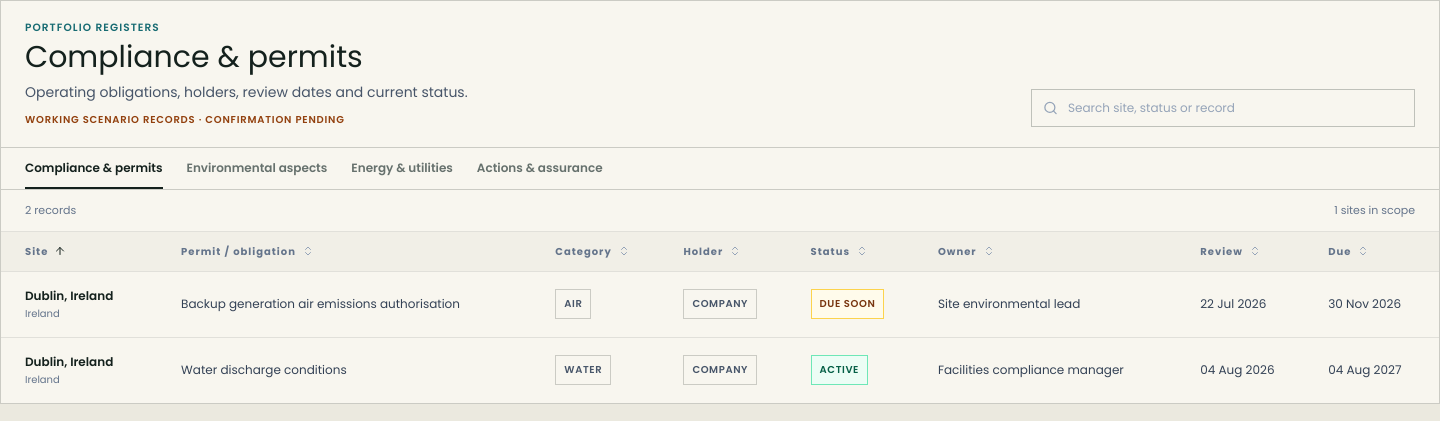
Test: EEMS portfolio components › switches portfolio registers and filters records
Expected: the text "Backup generation air emissions authorisation" is shown, [165,271,539,337]
Click the button "Energy & utilities".
click(402, 169)  # box [351,148,453,189]
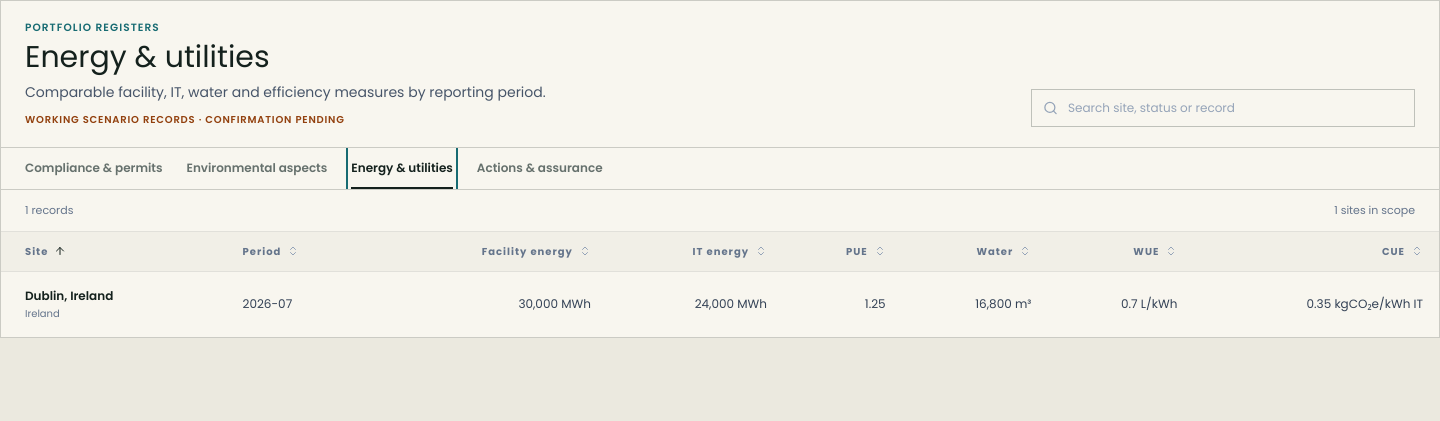
Now the column heading "PUE" is shown, box [783,232,902,271]
Type "no matching site" into the field with placeholder "Search site, status or record".
click(1223, 108); type("no matching site")  # box [1031,89,1415,127]
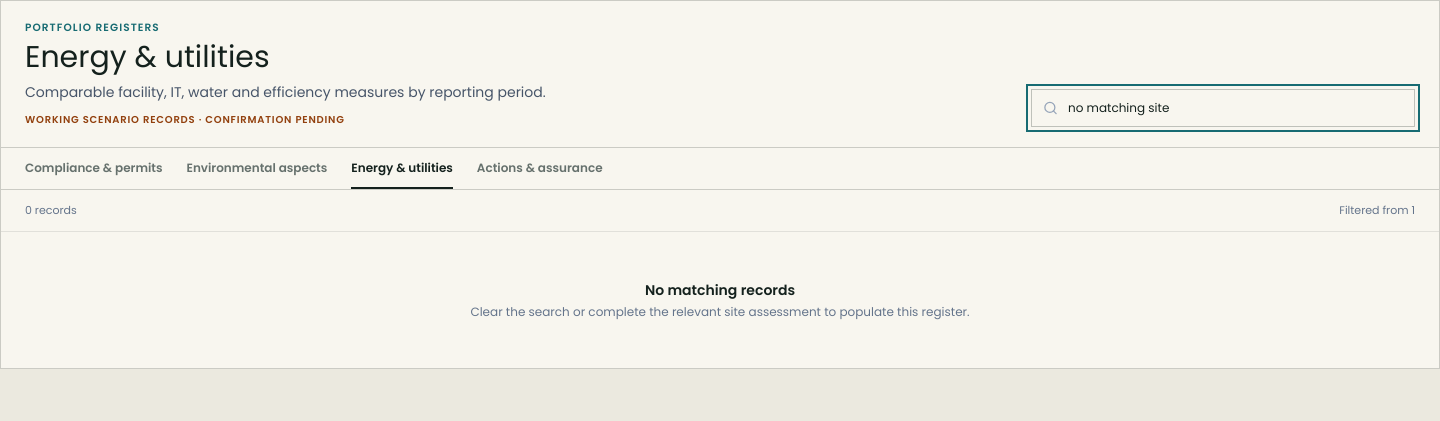
Now the text "No matching records" is shown, box [645,280,795,300]
